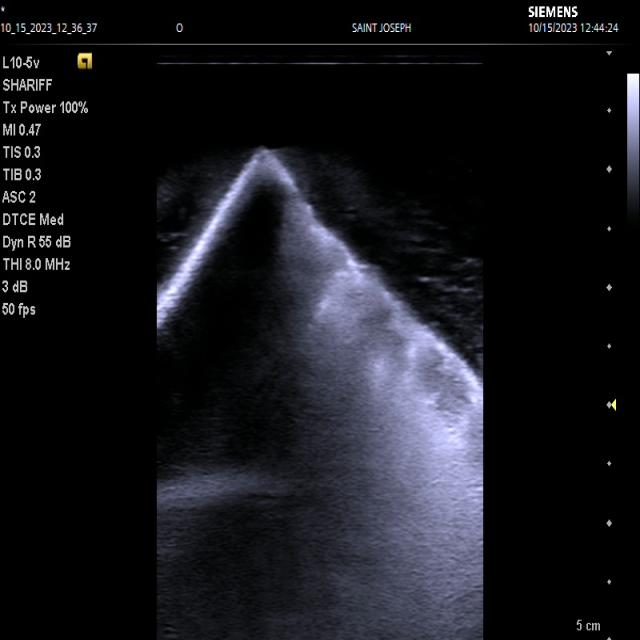tissue: (155, 148, 484, 640)
